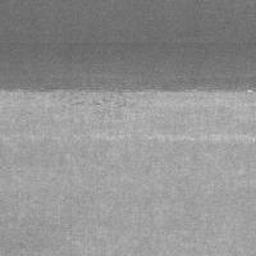Welding line: (0, 84, 256, 95)
